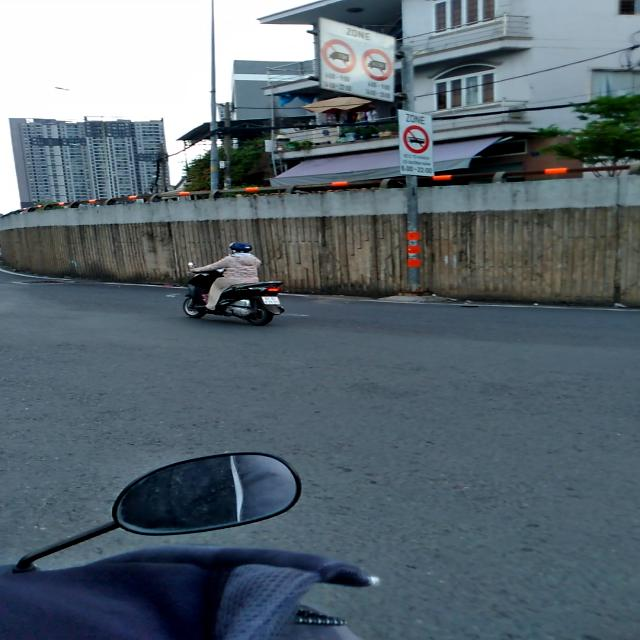P.106b: (321, 39, 356, 73), (361, 48, 393, 82)
P.107a: (403, 125, 430, 154)
